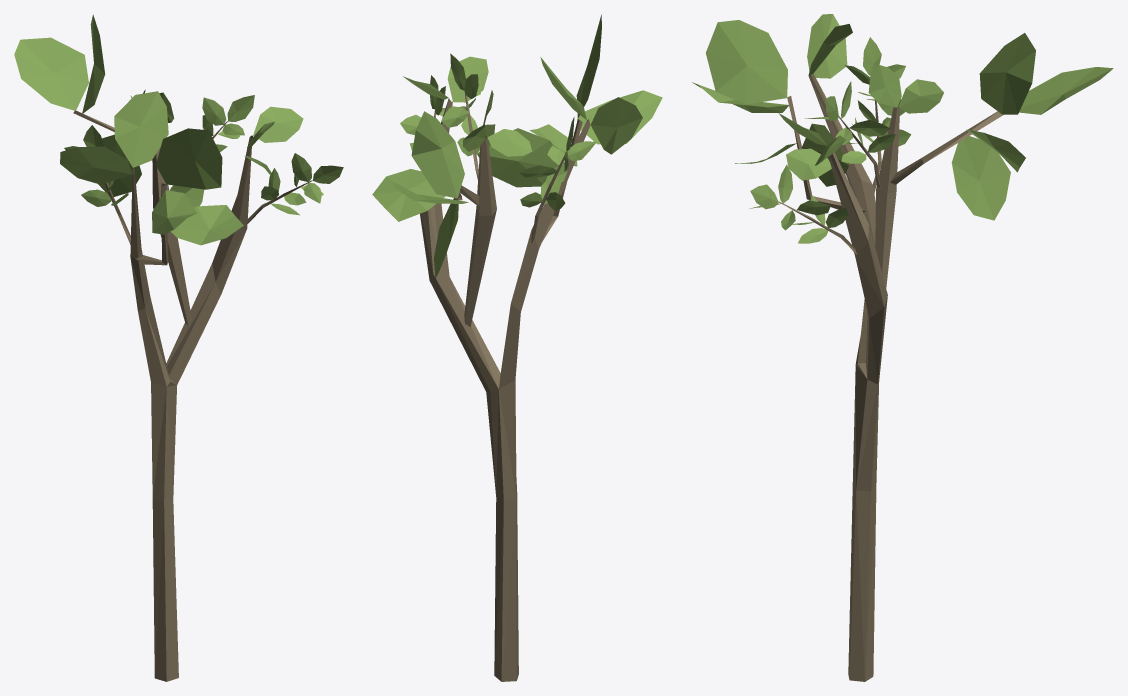
Rendered from Cherry_2_3.fbx.
3 views of the same model, side by side, from view 1: azimuth 30°, elevation 25°; view 2: azimuth 150°, elevation 25°; view 3: azimuth 270°, elevation 25° (orthographic). The views are drawn at different scales.
Visible parts, largest first — view 1: Cherry_2_3; view 2: Cherry_2_3; view 3: Cherry_2_3.
Boxes of the visible parts, x1,y1,x2,y2 form: Cherry_2_3: [14, 14, 343, 681]; Cherry_2_3: [372, 14, 662, 681]; Cherry_2_3: [692, 14, 1113, 681].
Size of the model in its own units: 99.91 by 236 by 140.
